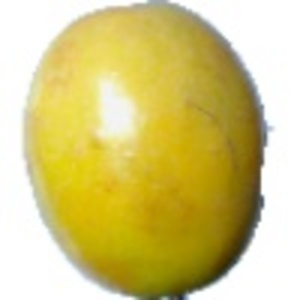maracujá: (19, 1, 276, 300)
